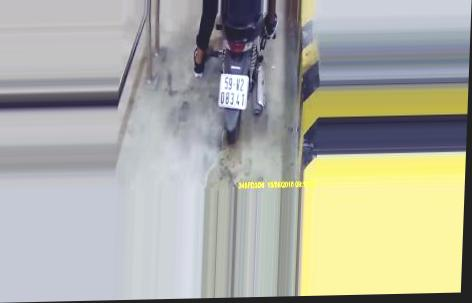License_Plate: (215, 71, 251, 114)
